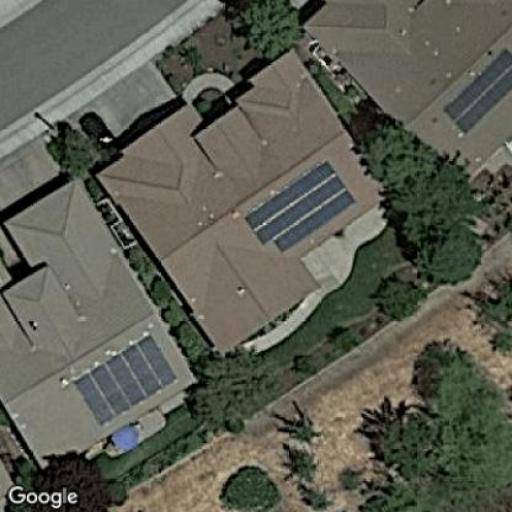solar-panel: (242, 159, 357, 255), (70, 332, 180, 428), (442, 48, 511, 138)
